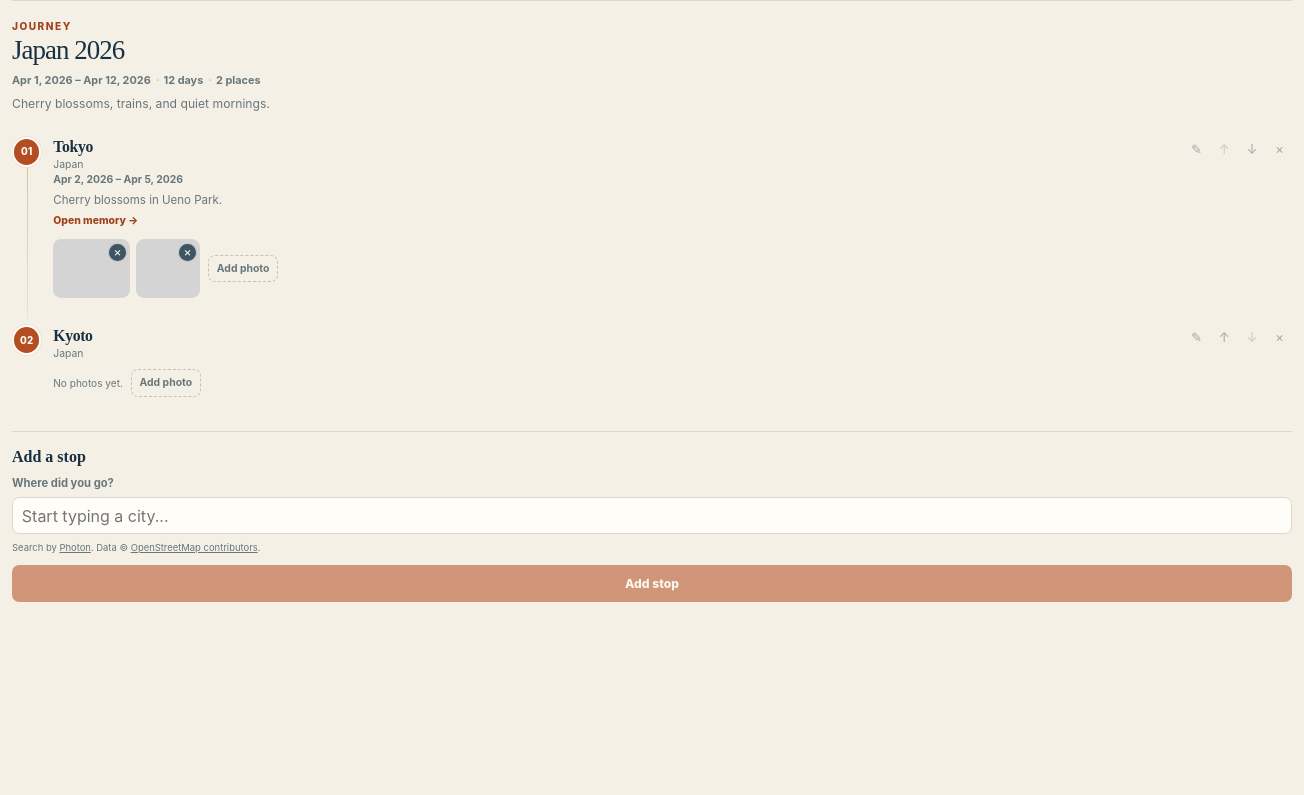
Test case: Itinerary journal › edits stop journal fields without changing the selected city
Click the button named "Edit journal for Tokyo".
click(1197, 150)  # box [1184,137,1209,162]
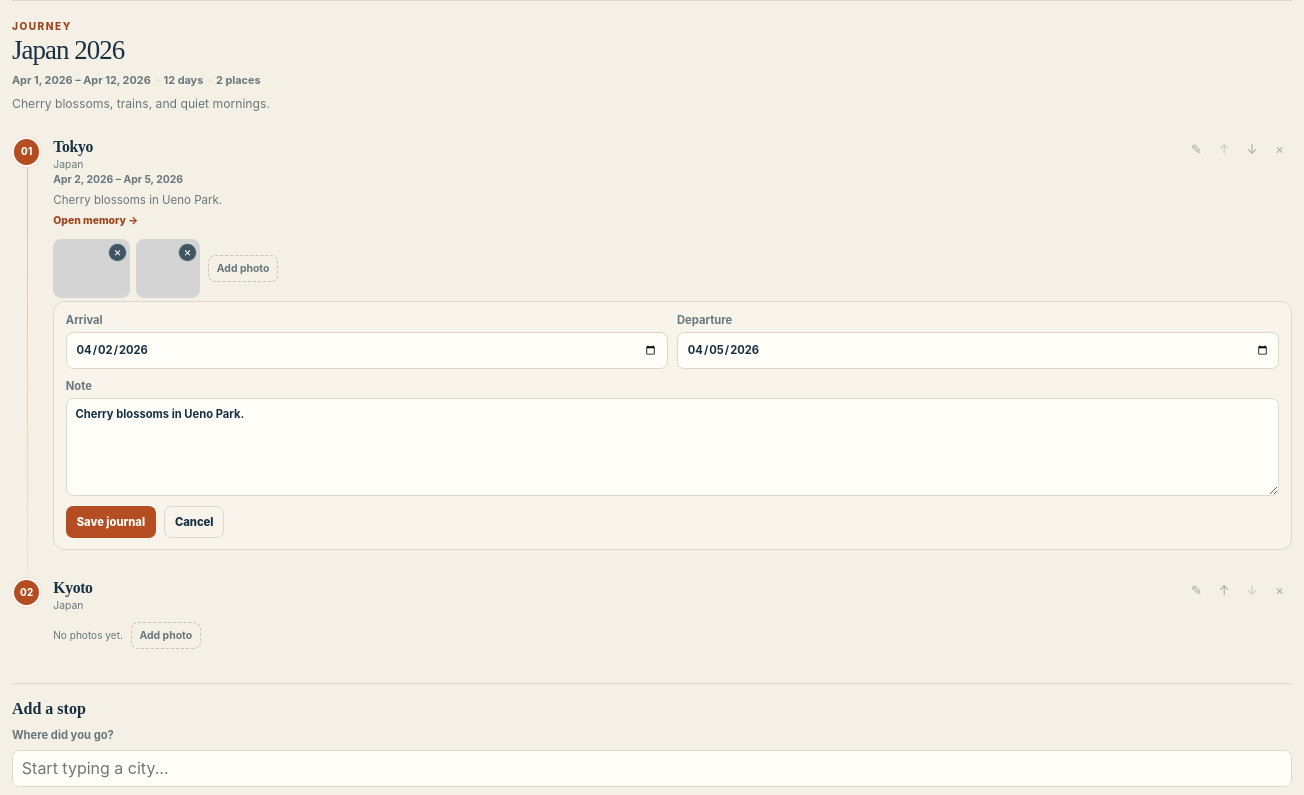
expect the date field labelled "Arrival" holds "2026-04-02": met
expect the date field labelled "Departure" holds "2026-04-05": met, box [677,332,1280,369]
expect the text box labelled "Note" holds "Cherry blossoms in Ueno Park.": met, box [66,398,1280,496]
Type "2026-04-03" into the date field labelled "Arrival".
click(367, 350); type("2026-04-03")  # box [66,332,668,369]
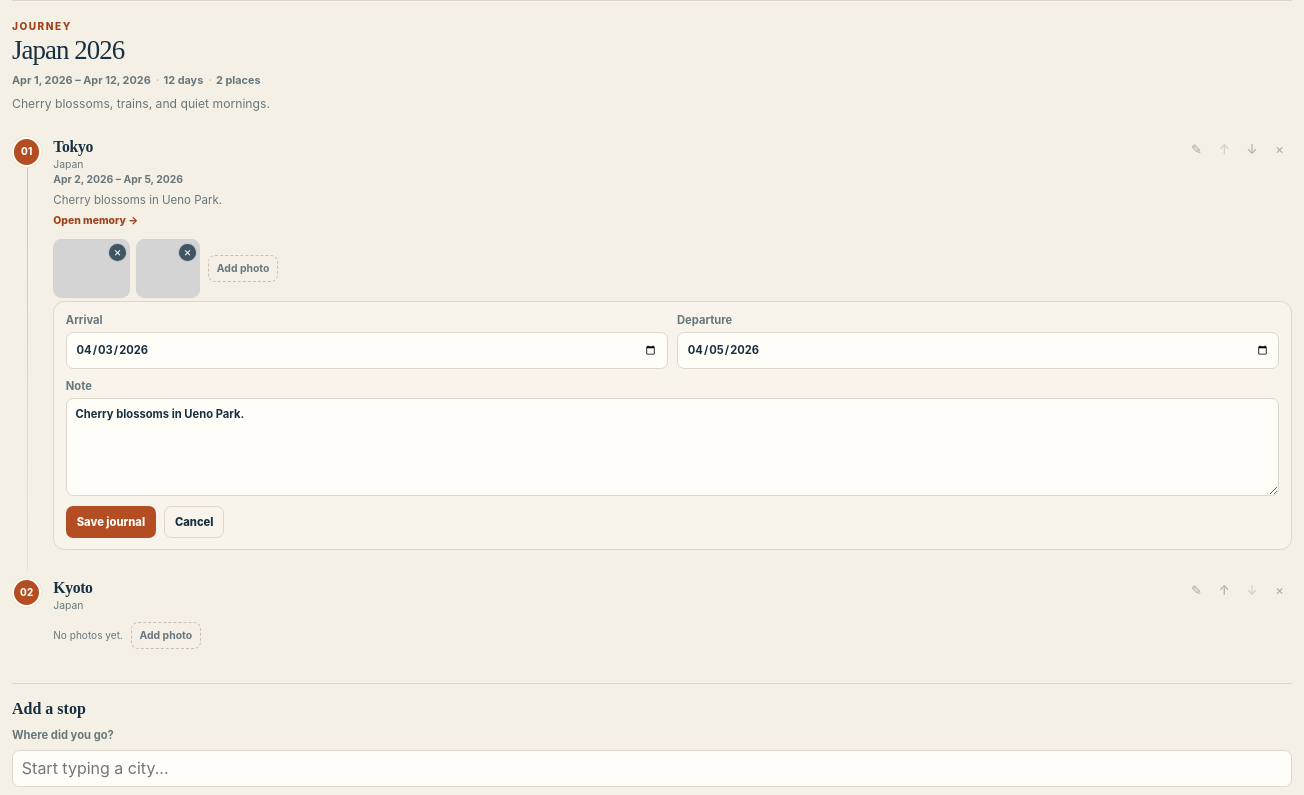
Type "2026-04-06" into the date field labelled "Departure".
click(978, 350); type("2026-04-06")  # box [677,332,1280,369]
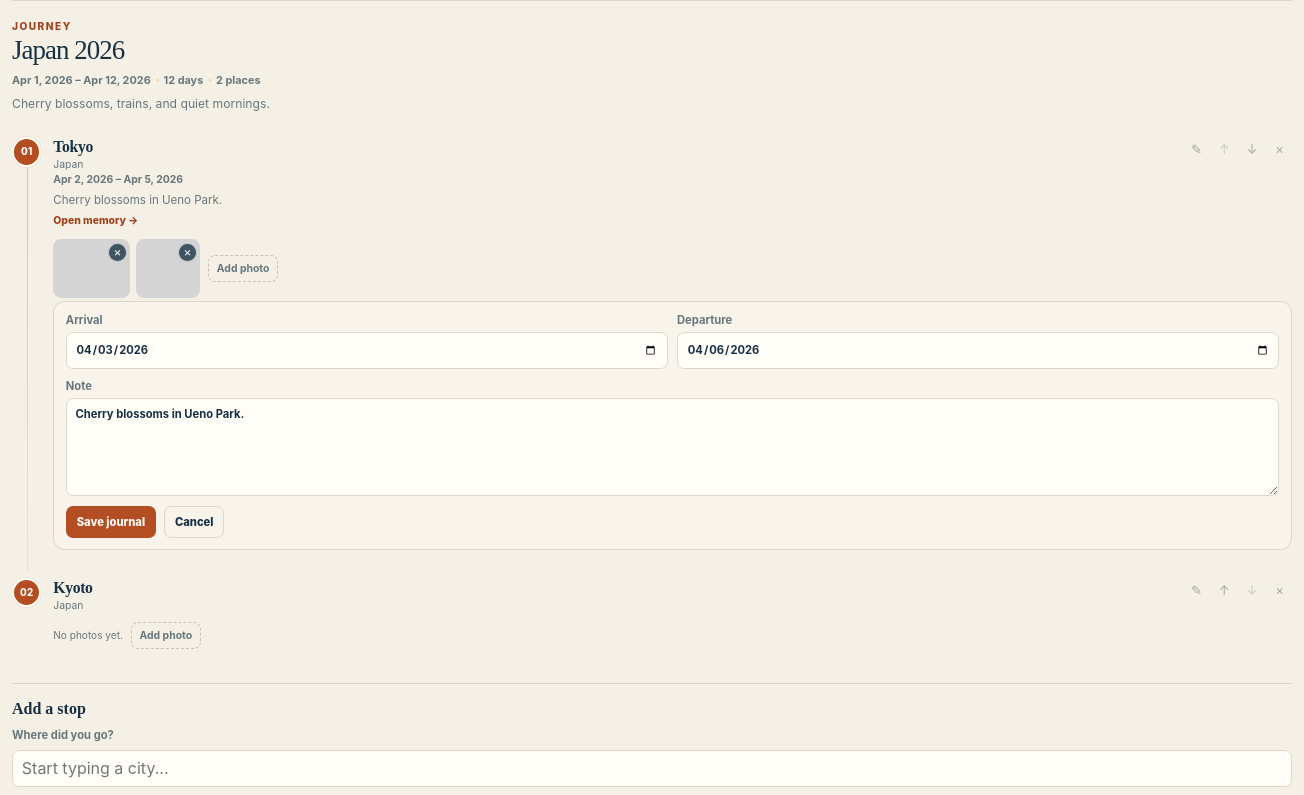
Replace the text in the text box labelled "Note" with "Tsukiji breakfast." at (673, 447), box [66,398,1280,496]
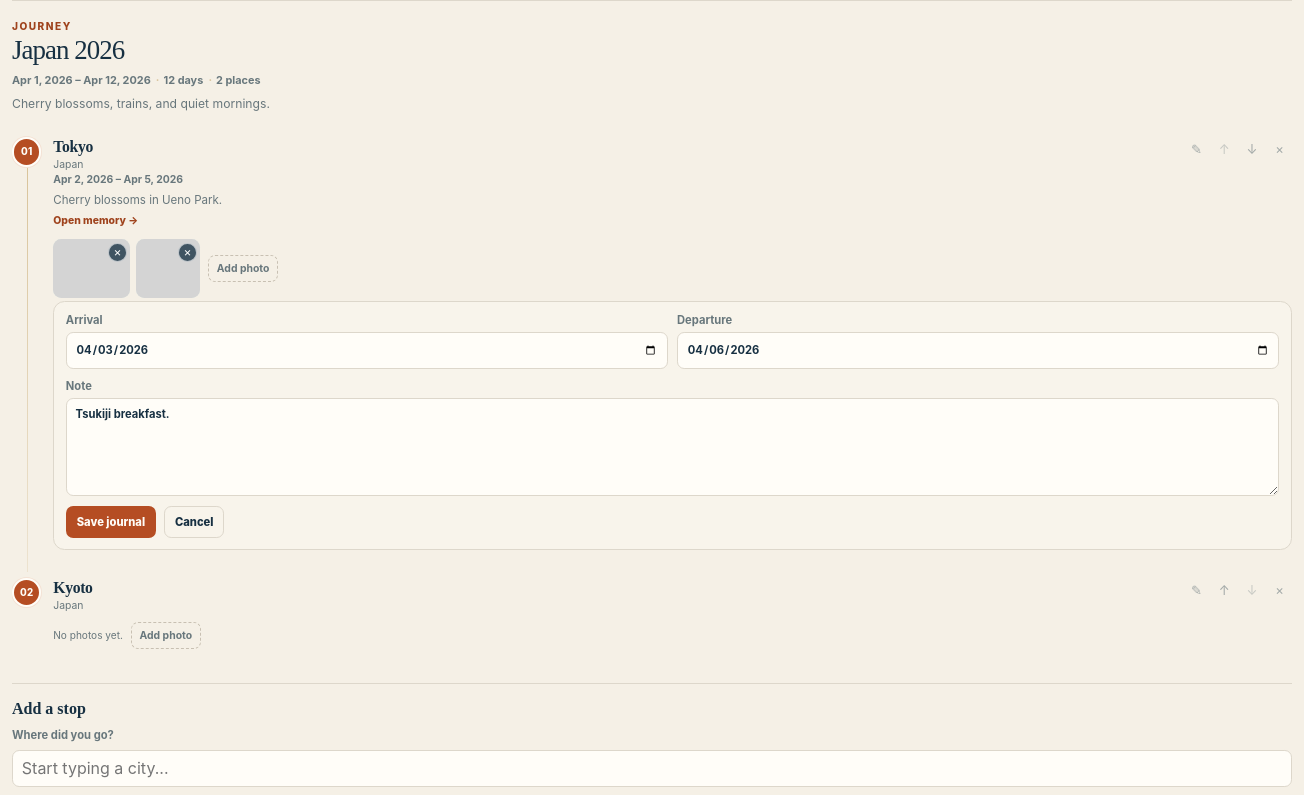
Submit the form "Save journal", box [53,301,1292,550]
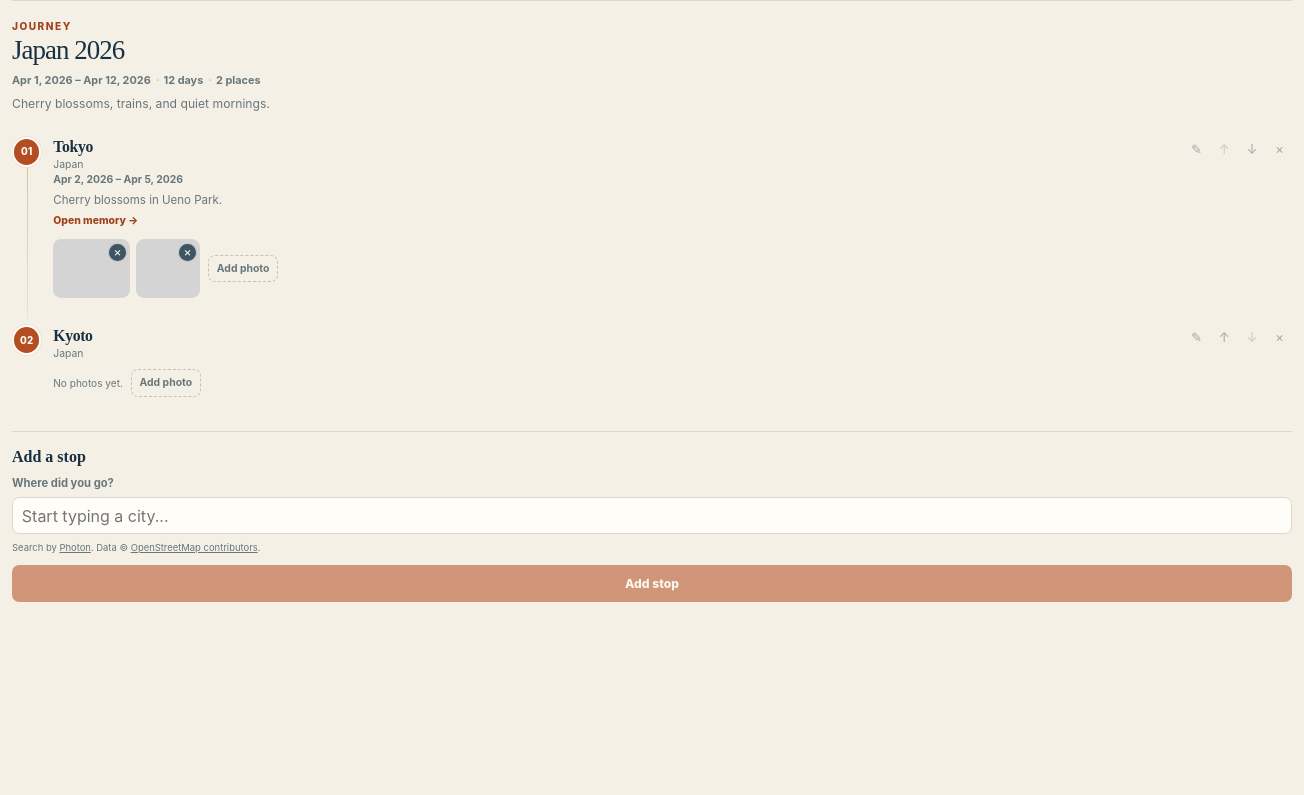
expect the text "Tokyo" is shown: met, box [53,138,93,156]
expect the label labelled "Arrival" is gone: met
